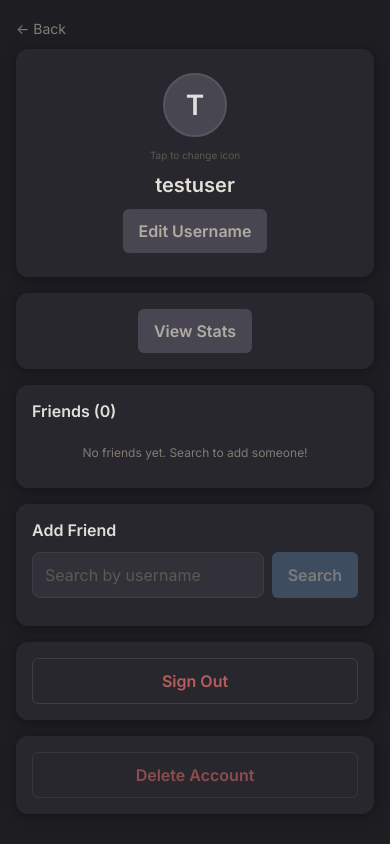
Scenario: ProfileScreen — delete account › shows error message when deleteAccount returns false
Click the button "Delete Account" at (195, 775), box [32,752,358,798]
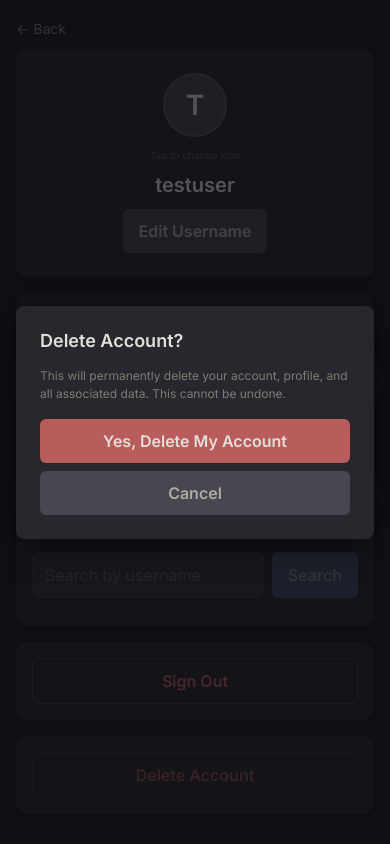
Click the button "Yes, Delete My Account" at (195, 440), box [40,418,350,462]
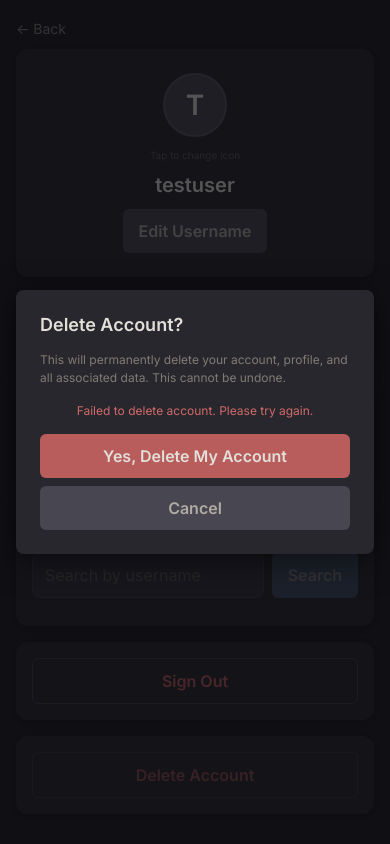
Now the text "Failed to delete account. Please try again." is shown, box [77,403,313,418]
